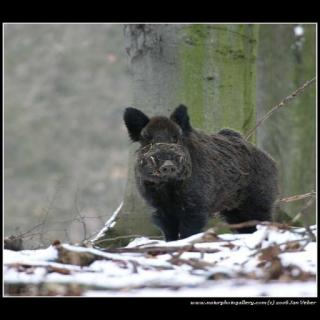Pig: (118, 76, 285, 246)
